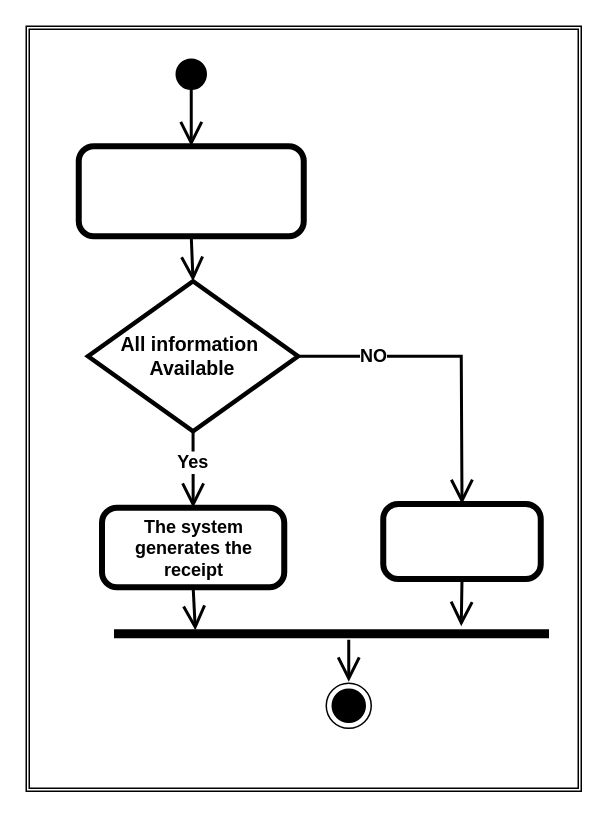
Some shapes in this 608 by 818 pixel diagram are drawn without their labels. The shapes that lost their labels are listed below. From the top down, each one's box as (x1, y1, x2, y2) in pixels, then its label:
(77, 145, 304, 236): The user clicks "Send Borrow Request" Button
(382, 502, 541, 579): The system can not generate the receipt
